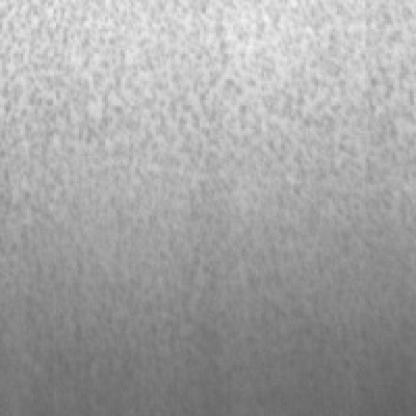pitted_surface: (4, 0, 410, 239)
